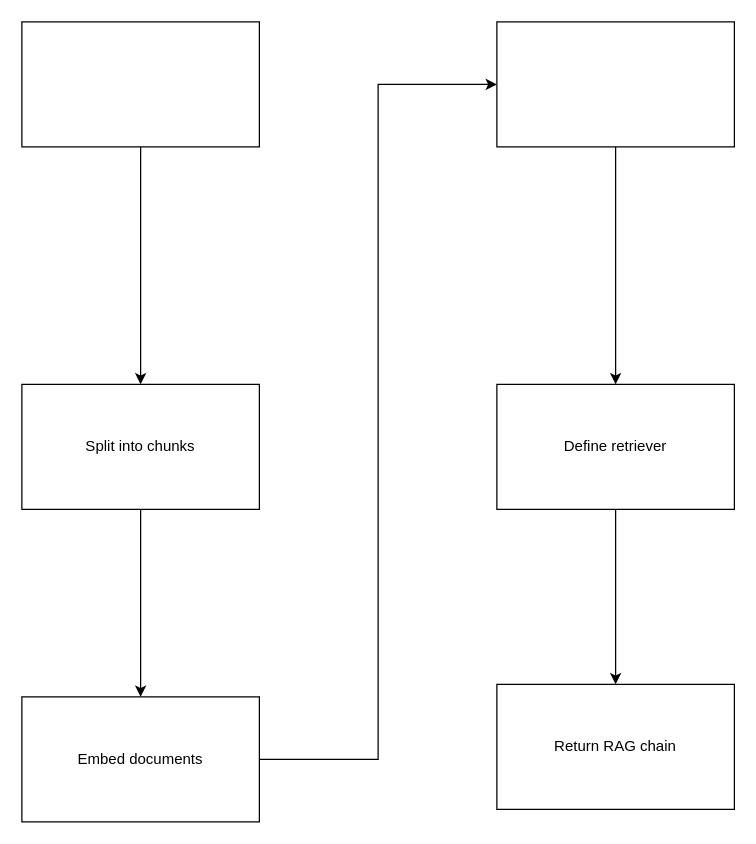
This 756x844 diagram has some shape labels left out. The shapes that lost their labels are listed below. From the top down, each one's centre as x and y in pixels, then its label:
pixel 140 84: Load text file
pixel 615 84: Index with FAISS
